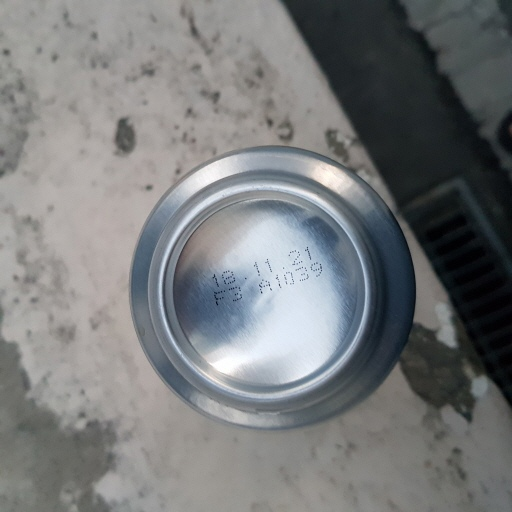Metal_0: (125, 144, 429, 447)
